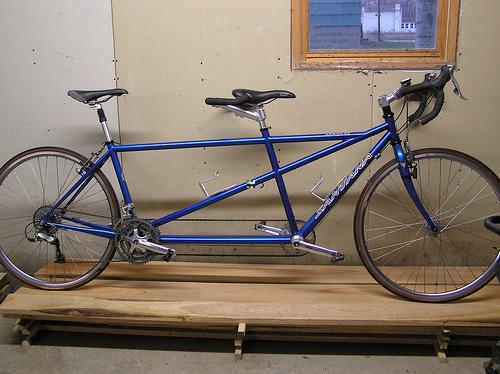car: (2, 62, 500, 306)
